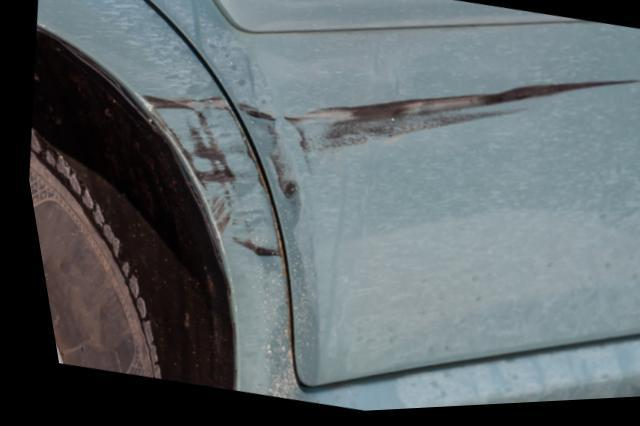scratch: (231, 85, 640, 206), (132, 92, 276, 269)
